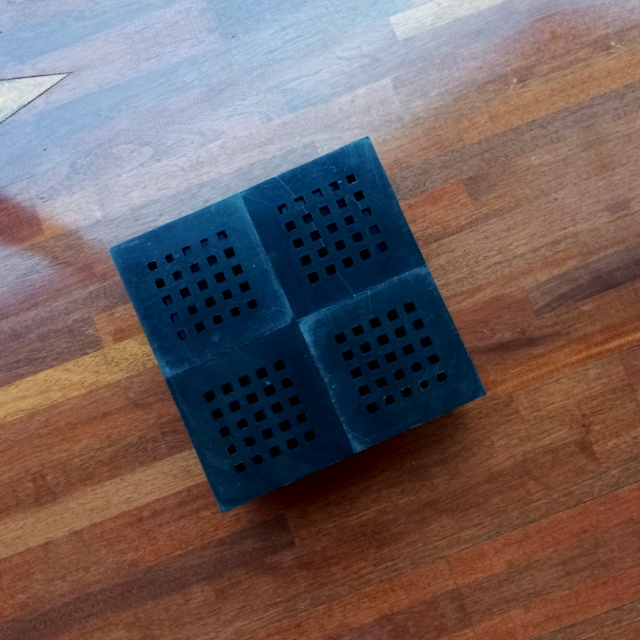pallet: (109, 121, 494, 521)
